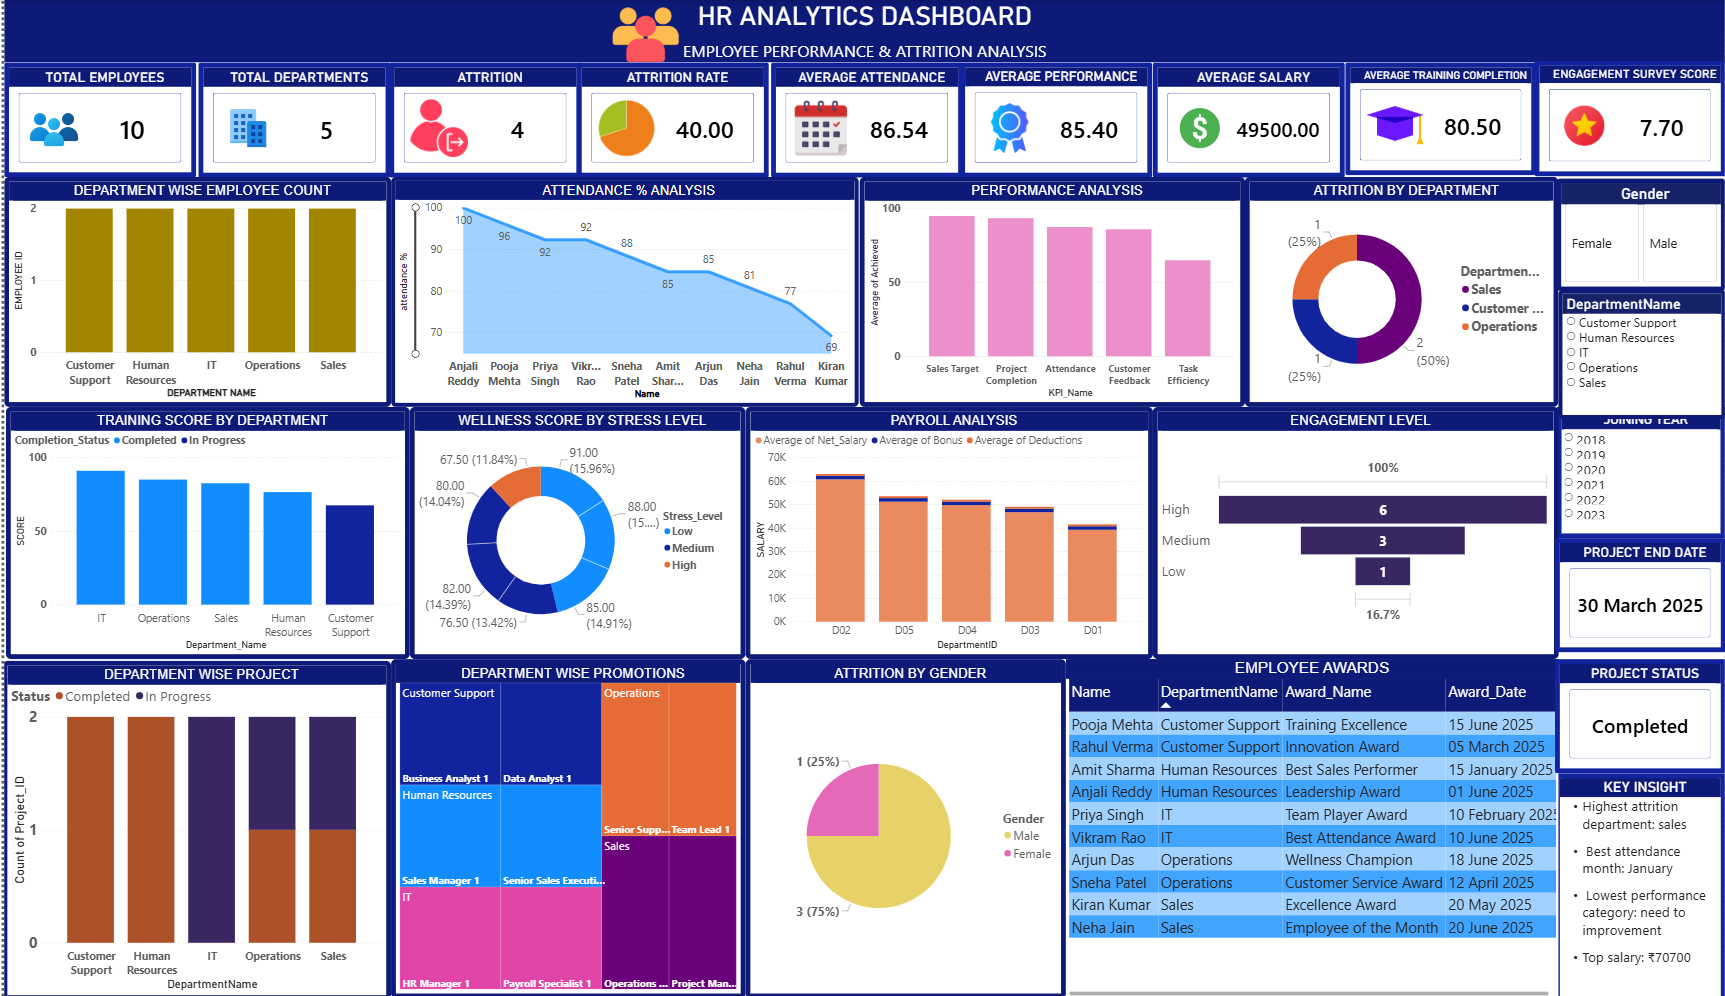

This screenshot's page, from the dashboard's own definition file:
{"tool":"powerbi","page":{"name":"Page 1","canvas":[3430,2000],"ordinal":0},"visuals":[{"type":"shape","title":"HR ANALYTICS DASHBOARD","box":[0,0,3430.7,125],"z":0},{"type":"textbox","title":" KEY INSIGHT ","box":[3091,1542.1,339.7,458.6],"z":1000},{"type":"listSlicer","title":"JOINING YEAR","fields":{"Values":["Employees.Joining Date.Variation.Date Hierarchy.Year"]},"box":[3094.4,811.8,336.3,261.6],"z":2000},{"type":"advancedSlicerVisual","fields":{"Values":["Employees.Gender"]},"box":[3094.4,356.7,336.3,224.2],"z":3000},{"type":"listSlicer","fields":{"Values":["Departments.DepartmentName"]},"box":[3097.8,577.4,332.9,258.2],"z":4000},{"type":"image","box":[1195.1,0,165.5,139.7],"z":5000},{"type":"cardVisual","title":"TOTAL EMPLOYEES","fields":{"Data":["CountNonNull(Employees.Employee ID)"]},"box":[0,125.4,382.7,228.3],"z":6000},{"type":"cardVisual","title":"ATTRITION","fields":{"Data":["Sum(Attrition.attrition flag)"]},"box":[768.4,124.2,382.6,228.9],"z":7000},{"type":"cardVisual","title":"ATTRITION RATE","fields":{"Data":["Attrition.Attrition Rate %"]},"box":[1141.1,124.2,382.6,228.9],"z":8000},{"type":"cardVisual","title":"AVERAGE TRAINING COMPLETION ","fields":{"Data":["Avg(training.Score)"]},"box":[2673.5,124.6,380.1,224.3],"z":9000},{"type":"cardVisual","title":"TOTAL DEPARTMENTS","fields":{"Data":["CountNonNull(Departments.DepartmentID)"]},"box":[385.8,124.2,382.6,228.9],"z":10000},{"type":"cardVisual","title":"AVERAGE SALARY","fields":{"Data":["Avg(payroll.Net_Salary)"]},"box":[2288.8,124.2,382.6,228.9],"z":11000},{"type":"cardVisual","title":"AVERAGE ATTENDANCE","fields":{"Data":["Attendance & leaves.average attendance"]},"box":[1527,124.2,382.6,228.9],"z":12000},{"type":"cardVisual","title":"AVERAGE PERFORMANCE","fields":{"Data":["Avg(performance metrics.Achieved)"]},"box":[1906.3,124.2,382.6,228.9],"z":13000},{"type":"cardVisual","title":"ENGAGEMENT SURVEY SCORE","fields":{"Data":["Avg(engagement.Survey_Score)"]},"box":[3051.3,122.1,381,229.3],"z":14000},{"type":"clusteredColumnChart","title":" DEPARTMENT WISE EMPLOYEE COUNT","fields":{"Category":["Departments.DepartmentName"],"Y":["CountNonNull(Attrition.EmployeeID)"]},"box":[0,353.3,771.1,458.6],"z":15000},{"type":"lineChart","title":"ATTENDANCE % ANALYSIS","fields":{"Category":["Employees.Name"],"Y":["Max(Attendance & leaves.attendance %)"]},"box":[772.7,352.1,931.7,458],"z":16000},{"type":"clusteredColumnChart","title":"PERFORMANCE ANALYSIS","fields":{"Category":["performance metrics.KPI_Name"],"Y":["Avg(performance metrics.Achieved)"]},"box":[1705.2,353.3,767.7,458.6],"z":17000},{"type":"donutChart","title":"ATTRITION BY DEPARTMENT","fields":{"Category":["Departments.DepartmentName"],"Y":["Attrition.Attrition Count"]},"box":[2472.8,353.3,625,458.6],"z":18000},{"type":"columnChart","title":"TRAINING SCORE BY DEPARTMENT","fields":{"Category":["training.Department_Name"],"Y":["Avg(training.Score)"],"Series":["training.Completion_Status"]},"box":[3.4,811.8,805,502.7],"z":19000},{"type":"donutChart","title":"WELLNESS SCORE BY STRESS LEVEL","fields":{"Category":["health & wellness.Stress_Level"],"Series":["health & wellness.Department_Name"],"Y":["Avg(health & wellness.Health_Score)"]},"box":[808.4,811.8,669.2,502.7],"z":20000},{"type":"columnChart","title":"PAYROLL ANALYSIS","fields":{"Category":["Departments.DepartmentID"],"Y":["Avg(payroll.Net_Salary)","Avg(payroll.Bonus)","Avg(payroll.Deductions)"]},"box":[1477.6,811.8,811.8,502.7],"z":21000},{"type":"funnel","title":"ENGAGEMENT LEVEL","fields":{"Category":["engagement.Engagement_Level"],"Y":["CountNonNull(engagement.Employee_ID)"]},"box":[2289.4,811.8,808.4,502.7],"z":22000},{"type":"columnChart","title":"DEPARTMENT WISE PROJECT","fields":{"Category":["Departments.DepartmentName"],"Series":["projects.Status"],"Y":["CountNonNull(projects.Project_ID)"]},"box":[-3.4,1317.9,774.5,676],"z":23000},{"type":"treemap","title":"DEPARTMENT WISE PROMOTIONS","fields":{"Group":["Departments.DepartmentName"],"Values":["CountNonNull(promotions.Employee_ID)"],"Details":["promotions.New_Role"]},"box":[771.1,1314.5,706.5,676],"z":24000},{"type":"tableEx","title":"EMPLOYEE AWARDS","fields":{"Values":["Employees.Name","Departments.DepartmentName","awards.Award_Name","awards.Award_Date"]},"box":[2116.2,1314.5,981.7,676],"z":25000},{"type":"cardVisual","title":"PROJECT END DATE","fields":{"Data":["Min(projects.End_Date)"]},"box":[3091,1073.4,339.7,227.6],"z":26000},{"type":"pieChart","title":"ATTRITION BY GENDER","fields":{"Y":["Attrition.Attrition Count"],"Category":["Employees.Gender"]},"box":[1477.6,1314.5,638.6,676],"z":27000},{"type":"cardVisual","title":"PROJECT STATUS","fields":{"Data":["Min(projects.Status)"]},"box":[3091,1314.5,339.7,227.6],"z":28000}]}

Visuals, with their boxes in screenshot pixels (x1, y1, x2, y2), scaled from the page's 3430x2000 canvas onto the 1725x996 screenshot:
"HR ANALYTICS DASHBOARD" shape: bbox=(0, 0, 1724, 62)
" KEY INSIGHT " textbox: bbox=(1555, 768, 1724, 995)
"JOINING YEAR" listSlicer: bbox=(1556, 404, 1724, 535)
advancedSlicerVisual - Employees.Gender: bbox=(1556, 178, 1724, 289)
listSlicer - Departments.DepartmentName: bbox=(1558, 288, 1724, 416)
image: bbox=(601, 0, 684, 70)
"TOTAL EMPLOYEES" cardVisual: bbox=(0, 62, 192, 176)
"ATTRITION" cardVisual: bbox=(386, 62, 579, 176)
"ATTRITION RATE" cardVisual: bbox=(574, 62, 766, 176)
"AVERAGE TRAINING COMPLETION " cardVisual: bbox=(1345, 62, 1536, 174)
"TOTAL DEPARTMENTS" cardVisual: bbox=(194, 62, 386, 176)
"AVERAGE SALARY" cardVisual: bbox=(1151, 62, 1343, 176)
"AVERAGE ATTENDANCE" cardVisual: bbox=(768, 62, 960, 176)
"AVERAGE PERFORMANCE" cardVisual: bbox=(959, 62, 1151, 176)
"ENGAGEMENT SURVEY SCORE" cardVisual: bbox=(1535, 61, 1724, 175)
" DEPARTMENT WISE EMPLOYEE COUNT" clusteredColumnChart: bbox=(0, 176, 388, 404)
"ATTENDANCE % ANALYSIS" lineChart: bbox=(389, 175, 857, 403)
"PERFORMANCE ANALYSIS" clusteredColumnChart: bbox=(858, 176, 1244, 404)
"ATTRITION BY DEPARTMENT" donutChart: bbox=(1244, 176, 1558, 404)
"TRAINING SCORE BY DEPARTMENT" columnChart: bbox=(2, 404, 407, 655)
"WELLNESS SCORE BY STRESS LEVEL" donutChart: bbox=(407, 404, 743, 655)
"PAYROLL ANALYSIS" columnChart: bbox=(743, 404, 1151, 655)
"ENGAGEMENT LEVEL" funnel: bbox=(1151, 404, 1558, 655)
"DEPARTMENT WISE PROJECT" columnChart: bbox=(0, 656, 388, 993)
"DEPARTMENT WISE PROMOTIONS" treemap: bbox=(388, 655, 743, 991)
"EMPLOYEE AWARDS" tableEx: bbox=(1064, 655, 1558, 991)
"PROJECT END DATE" cardVisual: bbox=(1555, 535, 1724, 648)
"ATTRITION BY GENDER" pieChart: bbox=(743, 655, 1064, 991)
"PROJECT STATUS" cardVisual: bbox=(1555, 655, 1724, 768)
